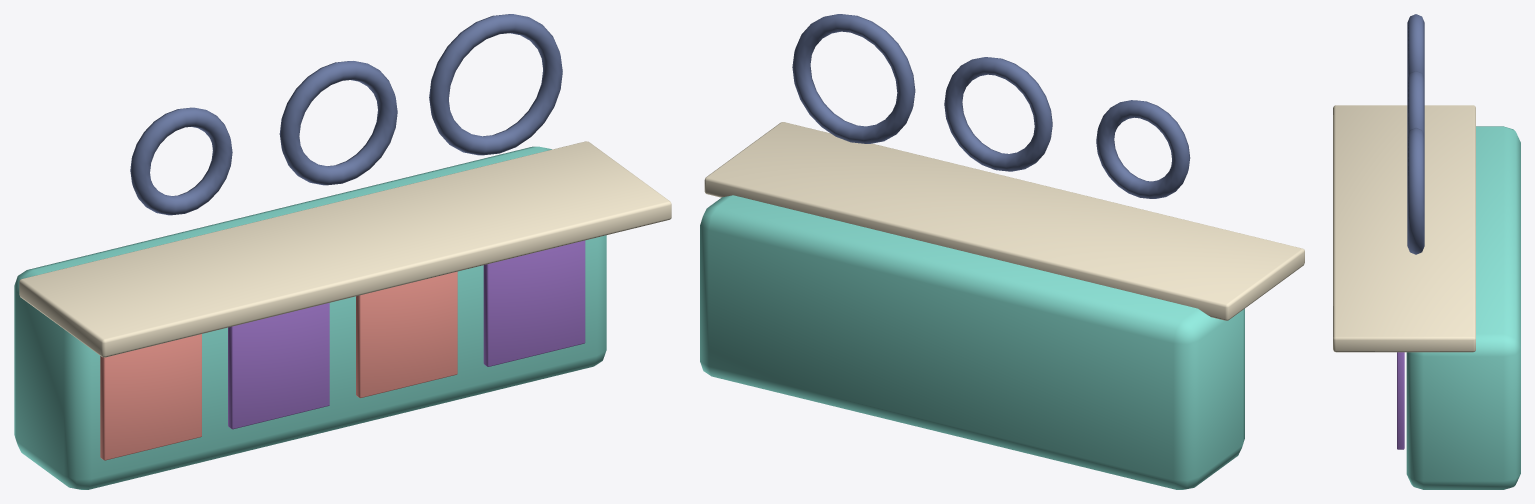
Rendered from r031_castle_kitchen_room_kitchen_room.glb.
The picture shows the model from 3 angles, left to right: view 1: azimuth 30°, elevation 25°; view 2: azimuth 150°, elevation 25°; view 3: azimuth 270°, elevation 25°; orthographic projection. The views are drawn at different scales.
Visible parts, largest first — view 1: r031_castle_kitchen_room_kitchen_room.001; view 2: r031_castle_kitchen_room_kitchen_room.001; view 3: r031_castle_kitchen_room_kitchen_room.001.
Part boxes in pixels (<box>): r031_castle_kitchen_room_kitchen_room.001: <box>14,14,671,489</box>; r031_castle_kitchen_room_kitchen_room.001: <box>700,14,1304,489</box>; r031_castle_kitchen_room_kitchen_room.001: <box>1333,14,1520,489</box>.
Size of the model in its own units: 5.8 by 3.67 by 1.97.
